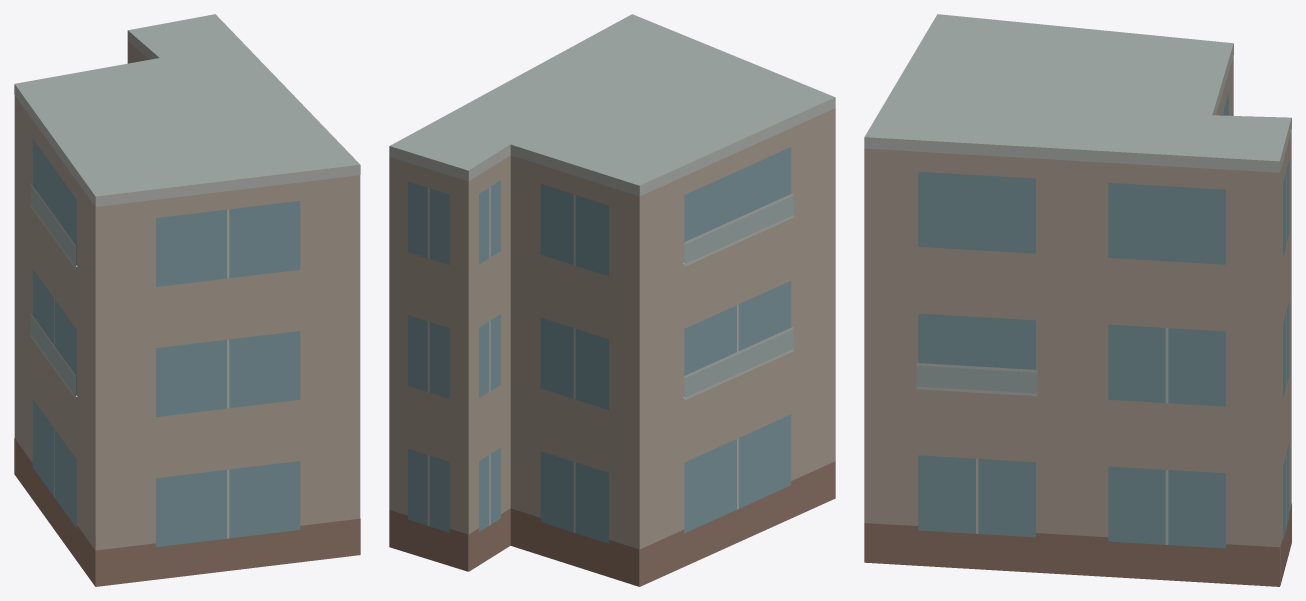
Rendered from survey-upis-33010281.glb.
The picture shows the model from 3 angles, left to right: view 1: azimuth 30°, elevation 25°; view 2: azimuth 150°, elevation 25°; view 3: azimuth 270°, elevation 25°; orthographic projection. The views are drawn at different scales.
Visible parts, largest first — view 1: survey-upis-33010281.tmp; view 2: survey-upis-33010281.tmp; view 3: survey-upis-33010281.tmp.
Part boxes in pixels (bbox=[...]): survey-upis-33010281.tmp: bbox=[14, 14, 360, 586]; survey-upis-33010281.tmp: bbox=[389, 14, 835, 586]; survey-upis-33010281.tmp: bbox=[864, 14, 1291, 586].
Size of the model in its own units: 6.77 by 9.1 by 8.29.
